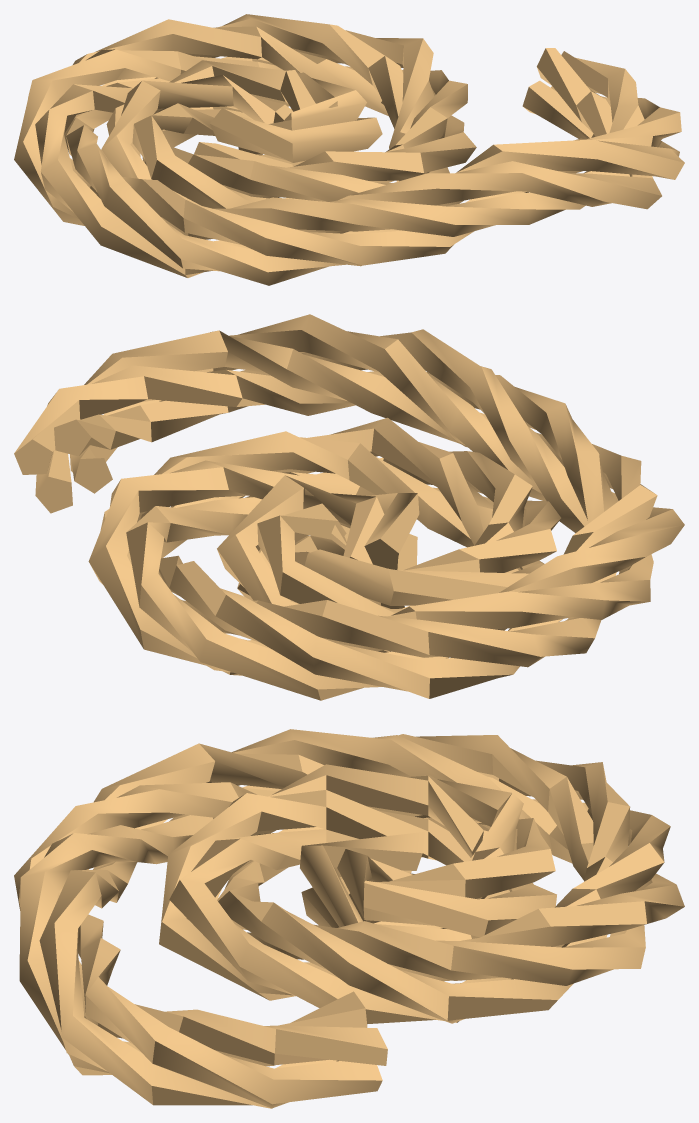
The model's file is Four_Side_Rope_RoundLaidout.fbx.
The picture shows the model from 3 angles, top to bottom: view 1: azimuth 30°, elevation 25°; view 2: azimuth 150°, elevation 25°; view 3: azimuth 270°, elevation 25°; orthographic projection. The views are drawn at different scales.
Visible parts, largest first — view 1: sweep8; view 2: sweep8; view 3: sweep8.
Part boxes in pixels (x1,y1,x2,y2): sweep8: (14,14,684,285); sweep8: (14,314,684,700); sweep8: (14,729,684,1108).
Size of the model in its own units: 16.34 by 3.12 by 14.33.
1 material, 1 textured.
